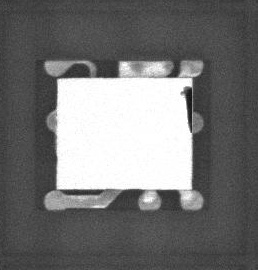DIE_BROKEN: (179, 83, 194, 135)
